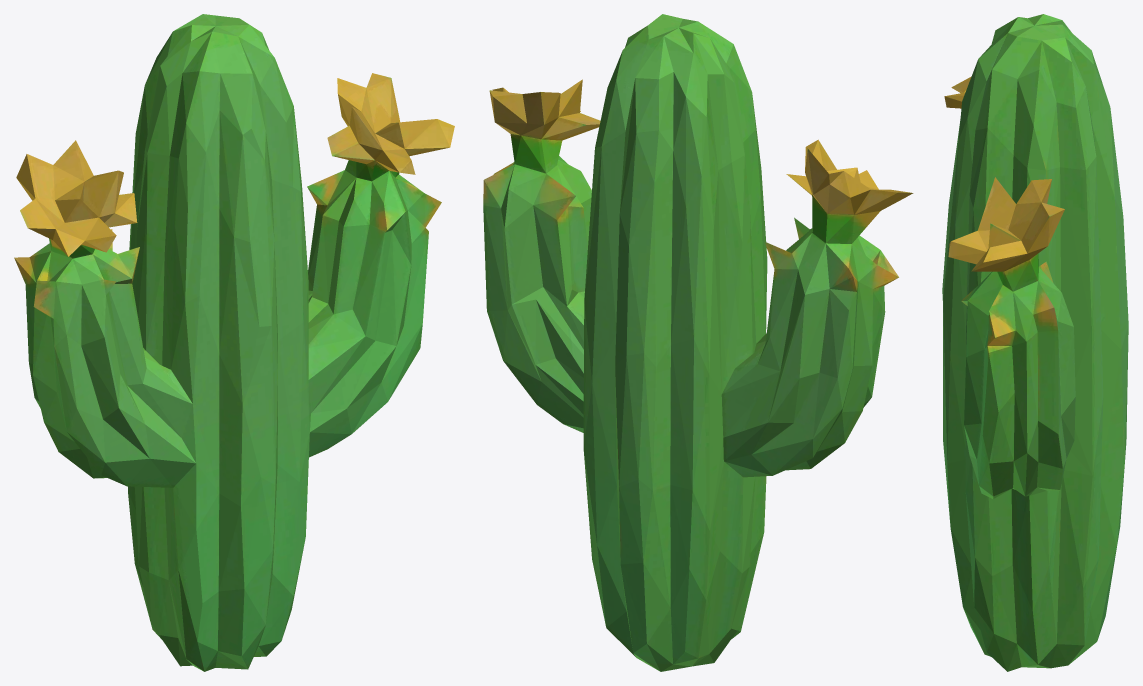
The model's file is cactus_plant.glb.
The picture shows the model from 3 angles, left to right: view 1: azimuth 30°, elevation 25°; view 2: azimuth 150°, elevation 25°; view 3: azimuth 270°, elevation 25°; orthographic projection.
Size of the model in its own units: 1.39 by 1.98 by 0.5272.
Materials: 1 (1 with a texture image).
